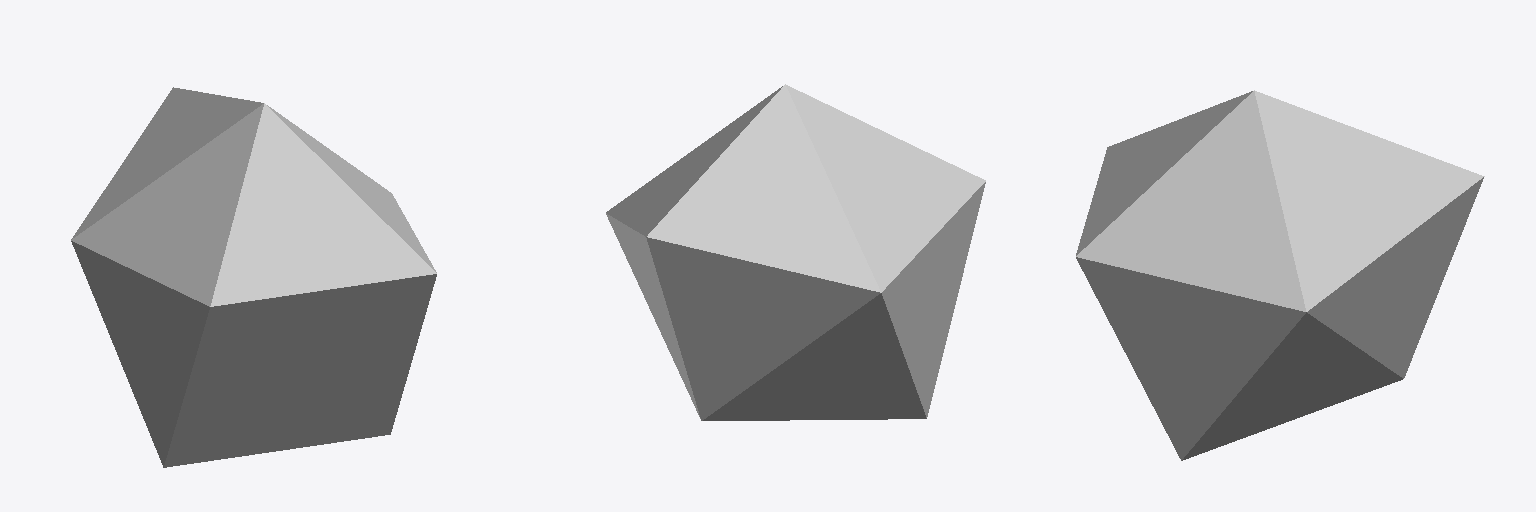
File: GyroElongatedSquarePyramid.obj
The picture shows the model from 3 angles: view 1: azimuth 30°, elevation 25°; view 2: azimuth 150°, elevation 25°; view 3: azimuth 270°, elevation 25°; orthographic projection.
Parts seen in each view (by area): view 1: GyroElongatedSquarePyramid; view 2: GyroElongatedSquarePyramid; view 3: GyroElongatedSquarePyramid.
Part boxes in pixels (left/top/right/bottom): GyroElongatedSquarePyramid: left=71, top=87, right=436, bottom=467; GyroElongatedSquarePyramid: left=606, top=84, right=985, bottom=420; GyroElongatedSquarePyramid: left=1076, top=90, right=1484, bottom=460.
Size of the model in its own units: 1.05 by 1.1 by 1.25.